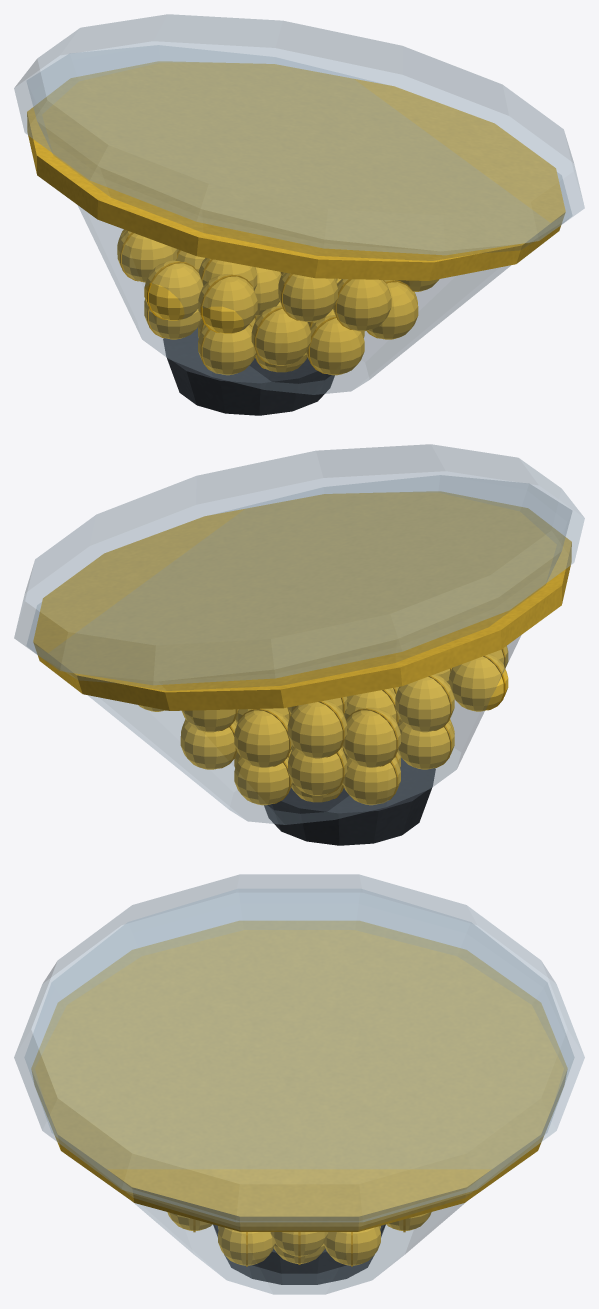
Rendered from hopper_gravity_v2.glb.
3 renders of one model, top to bottom at view 1: azimuth 30°, elevation 25°; view 2: azimuth 150°, elevation 25°; view 3: azimuth 270°, elevation 25°, orthographic. The views are drawn at different scales.
Parts seen in each view (by area): view 1: hopper_gravity_mesh, paintball_32, paintball_31, paintball_15, paintball_10, paintball_28, paintball_40, paintball_08, paintball_37, paintball_17, paintball_13, paintball_33 (+1 smaller); view 2: hopper_gravity_mesh, paintball_38, paintball_23, paintball_25, paintball_37, paintball_31, paintball_14, paintball_07, paintball_09, paintball_16, paintball_13, paintball_41 (+1 smaller); view 3: hopper_gravity_mesh, paintball_11, paintball_12, paintball_18.
Boxes of the visible parts, x1,y1,x2,y2 form: hopper_gravity_mesh: [14, 14, 584, 415]; paintball_32: [198, 274, 257, 333]; paintball_31: [144, 260, 203, 320]; paintball_15: [251, 305, 310, 365]; paintball_10: [306, 315, 364, 375]; paintball_28: [333, 279, 391, 331]; paintball_40: [278, 272, 337, 321]; paintball_08: [198, 324, 256, 375]; paintball_37: [117, 230, 176, 282]; paintball_17: [367, 280, 418, 339]; paintball_13: [144, 300, 201, 339]; paintball_33: [198, 258, 257, 290]; hopper_gravity_mesh: [14, 444, 584, 845]; paintball_38: [287, 700, 347, 758]; paintball_23: [342, 707, 400, 767]; paintball_25: [234, 708, 292, 767]; paintball_37: [395, 674, 454, 732]; paintball_31: [449, 654, 508, 711]; paintball_14: [288, 747, 347, 795]; paintball_07: [342, 756, 400, 805]; paintball_09: [234, 756, 292, 805]; paintball_16: [180, 720, 237, 769]; paintball_13: [397, 720, 454, 769]; paintball_41: [182, 709, 239, 732]; hopper_gravity_mesh: [14, 874, 584, 1294]; paintball_11: [323, 1226, 380, 1266]; paintball_12: [218, 1226, 275, 1266]; paintball_18: [270, 1232, 328, 1257].
Bounding box in the file's own units: 0.1587 × 0.0949 × 0.166.
Materials: 5 (2 with a texture image).
